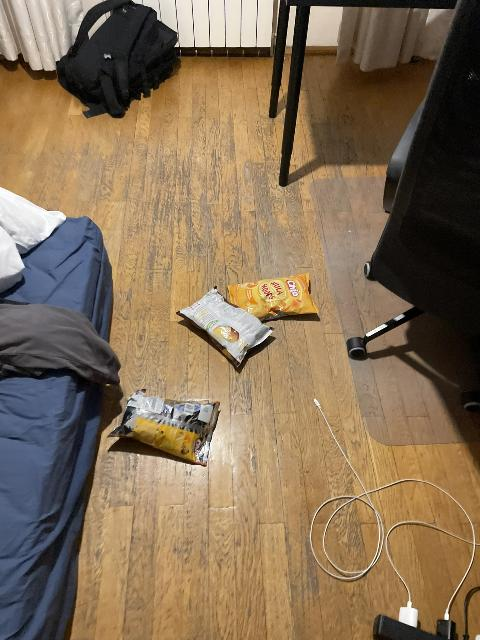Chio Cascaval 125g: (107, 390, 222, 466)
Chio Hula Hoops Cheese 70g: (227, 273, 319, 319)
Lays Beef Grilled Ribs 125g: (176, 285, 278, 368)
